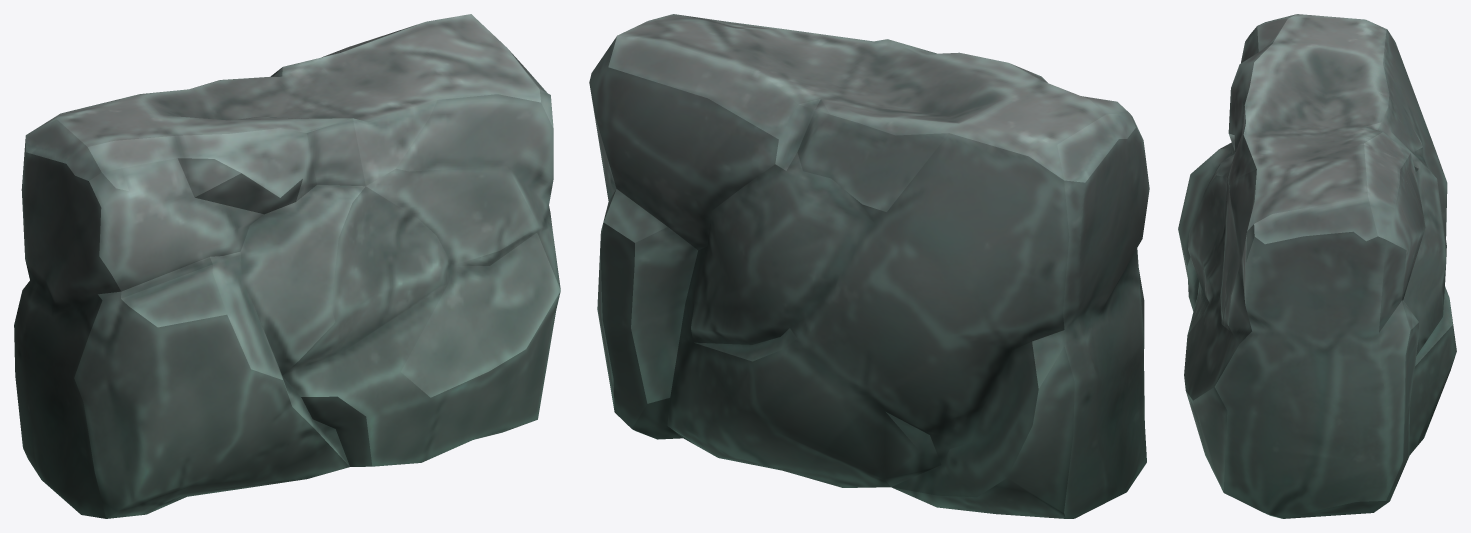
The model's file is Prop_Cliff_mossno_2.fbx.
3 renders of one model, left to right at view 1: azimuth 30°, elevation 25°; view 2: azimuth 150°, elevation 25°; view 3: azimuth 270°, elevation 25°, orthographic. The views are drawn at different scales.
Parts seen in each view (by area): view 1: cliff; view 2: cliff; view 3: cliff.
Boxes of the visible parts, bbox=[...] form: cliff: bbox=[14, 14, 560, 518]; cliff: bbox=[589, 14, 1149, 518]; cliff: bbox=[1178, 14, 1456, 518].
Bounding box in the file's own units: 204 × 157 × 118.
1 material, 1 textured.
